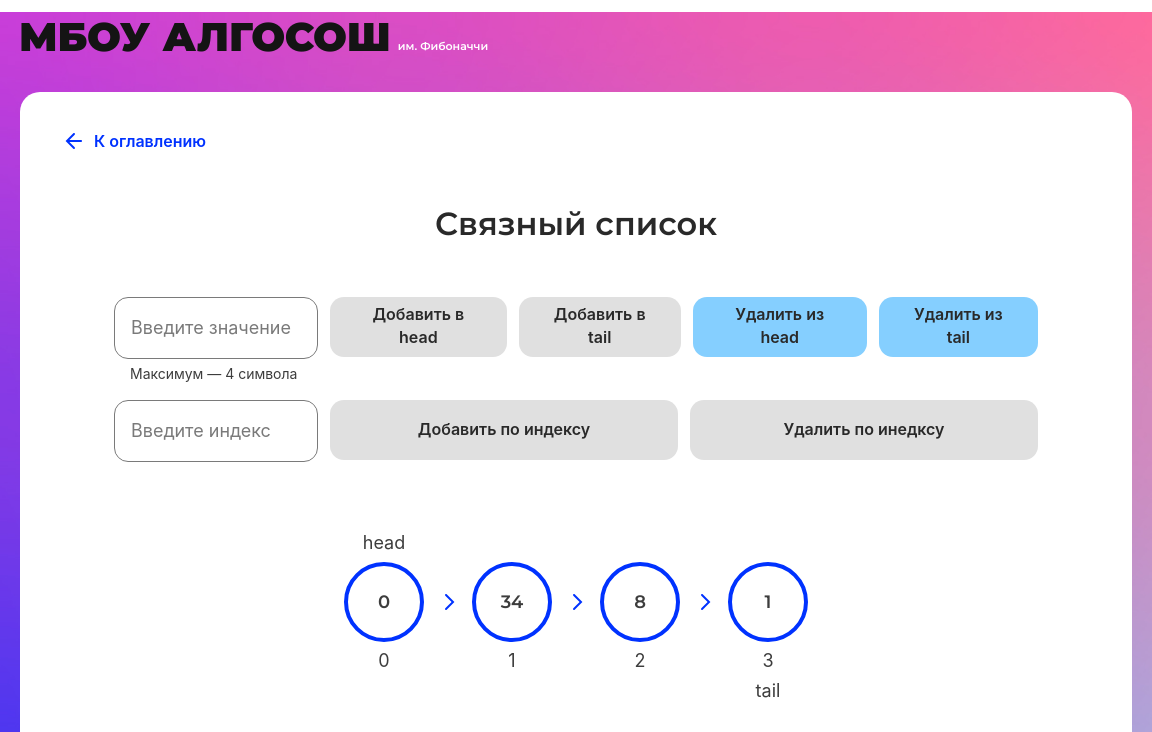
list tests › delete by index
Type "2" into the number field with test id "list_index". click: (216, 431)
box: [114,400,318,462]
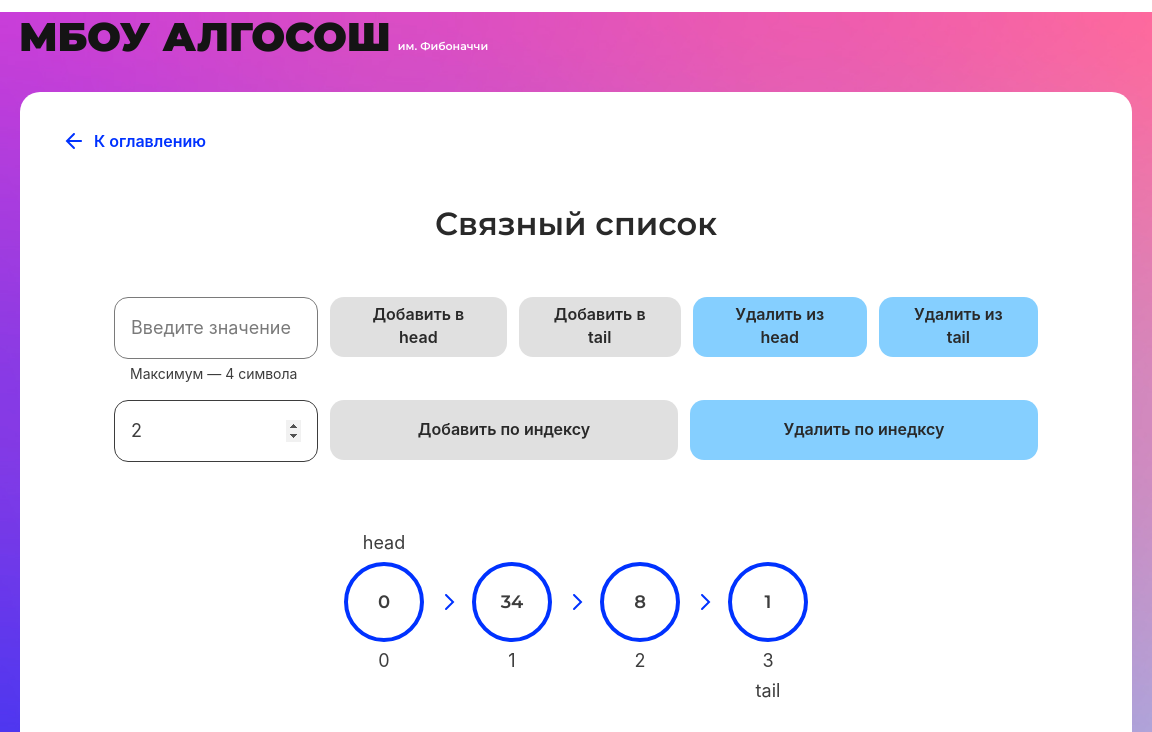
Expected: the number of elements with test id "circle_state" is 4, [344,562,424,642]; [472,562,552,642]; [600,562,680,642]; [728,562,808,642]
Click the button with test id "list_delete_index". click: (864, 430)
box: [690,400,1038,460]
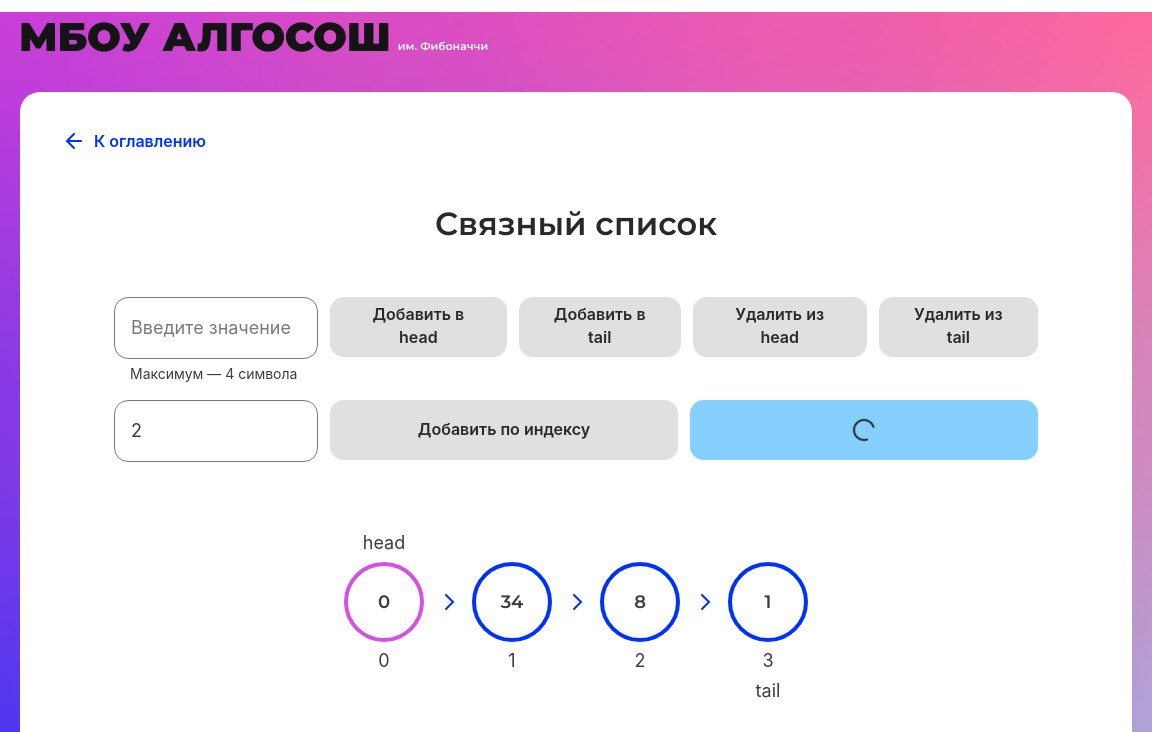
Now the element with test id "circle_state" has style "border-color"="rgb(210, 82, 225)", box [344,562,424,642]
Wait "500"
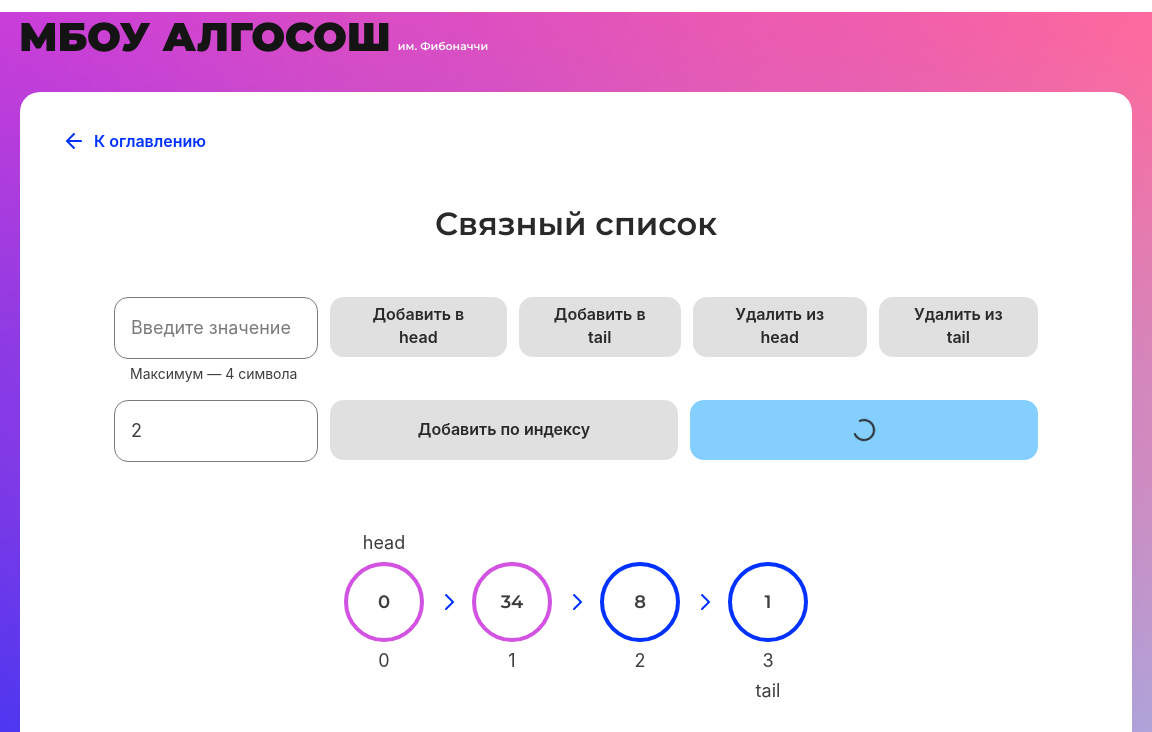
Now the element with test id "circle_state" has style "border-color"="rgb(210, 82, 225)", box [472,562,552,642]
Wait "500"
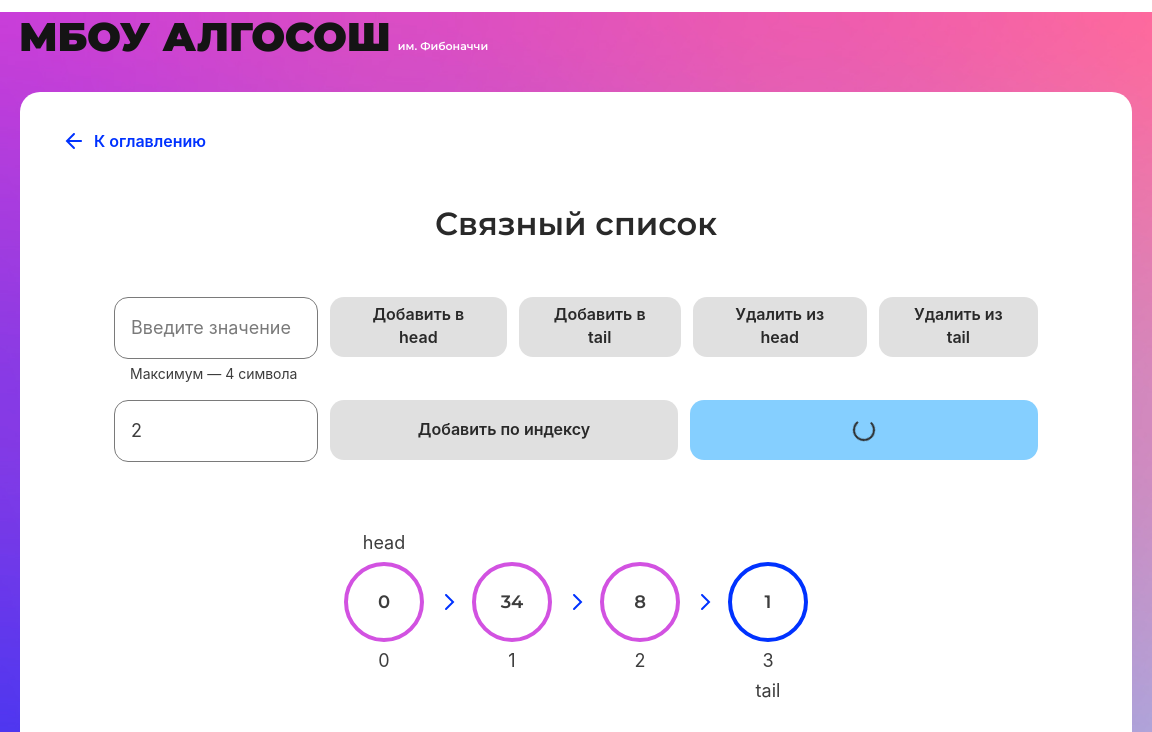
Now the element with test id "circle_state" has style "border-color"="rgb(210, 82, 225)", box [600,562,680,642]
Wait "500"
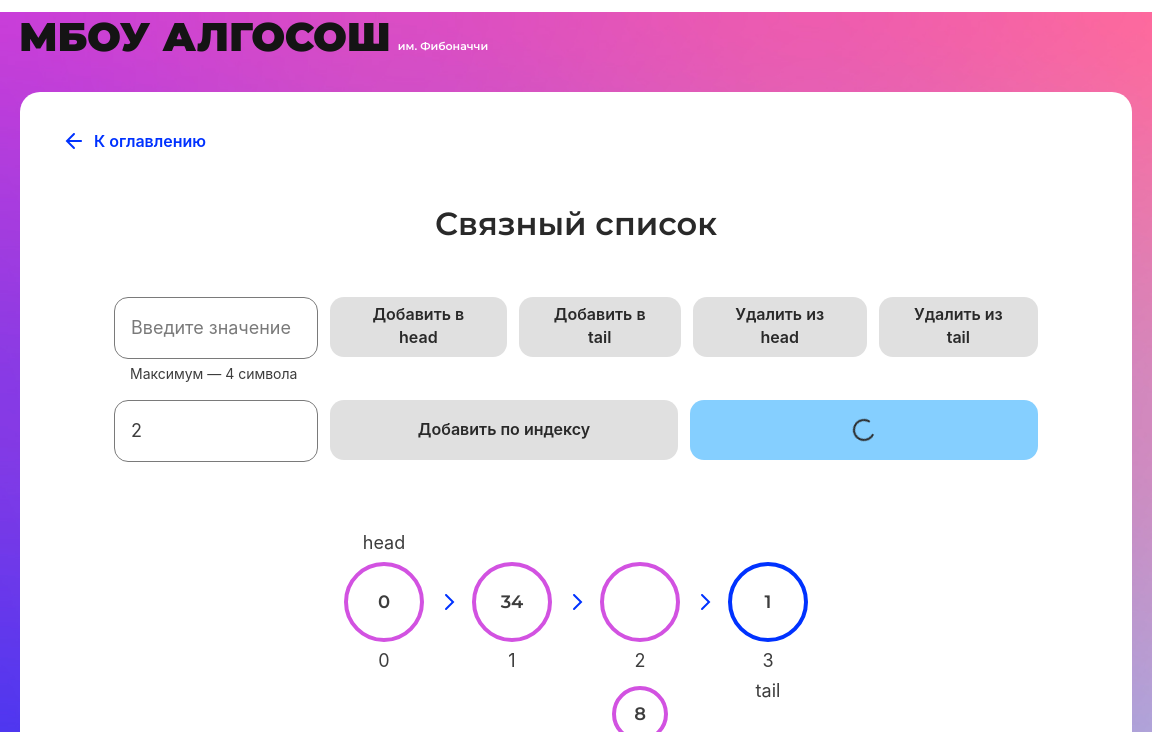
Expected: the element with test id "circle_small" is shown, [612,686,668,731]
Expected: the text "8" is shown, [634,703,646,725]
Wait "500"
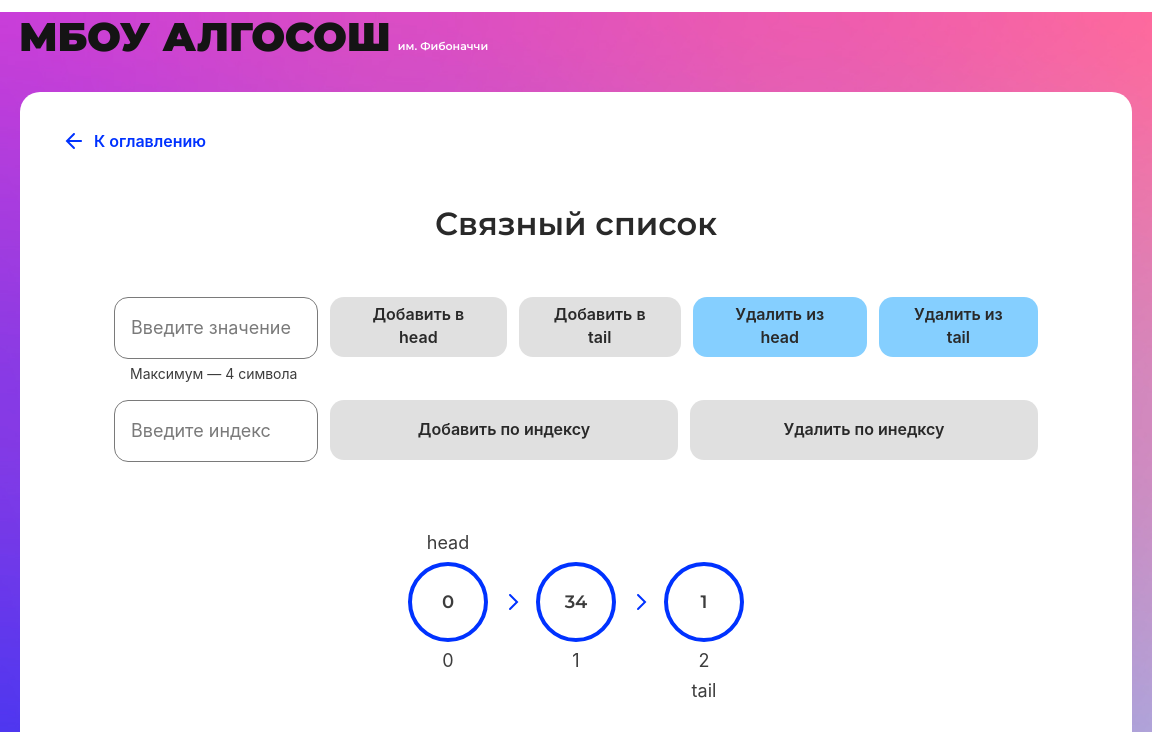
Now the 1st text "1" is shown, box [701,591,708,613]
Now the number of elements with test id "circle_state" is 3, box [408,562,488,642]; [536,562,616,642]; [664,562,744,642]
